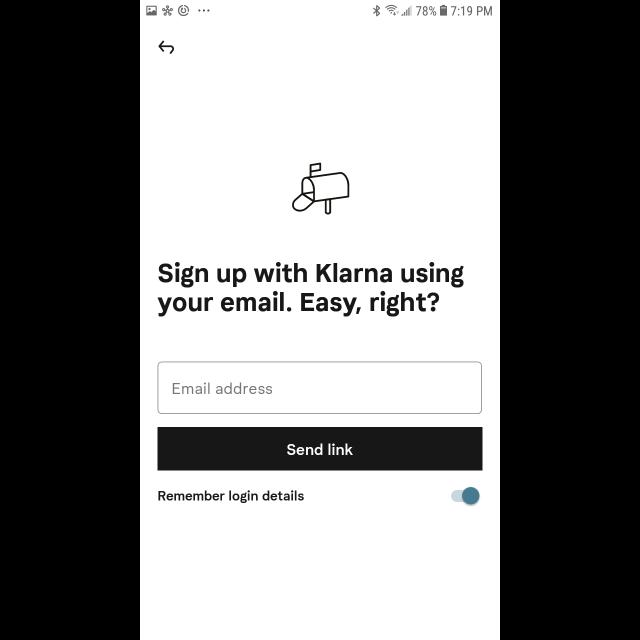icon: (159, 41, 175, 55)
image: (292, 163, 350, 215)
input: (158, 362, 482, 414)
switch: (452, 487, 481, 505)
text: (158, 262, 464, 316), (159, 491, 305, 504), (172, 382, 272, 394)
textbutton: (158, 427, 482, 471)
uppertaskbar: (140, 1, 500, 17)
